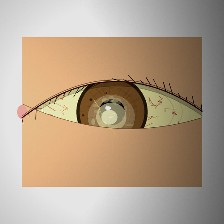corneal_ulcer: (87, 97, 136, 137)
